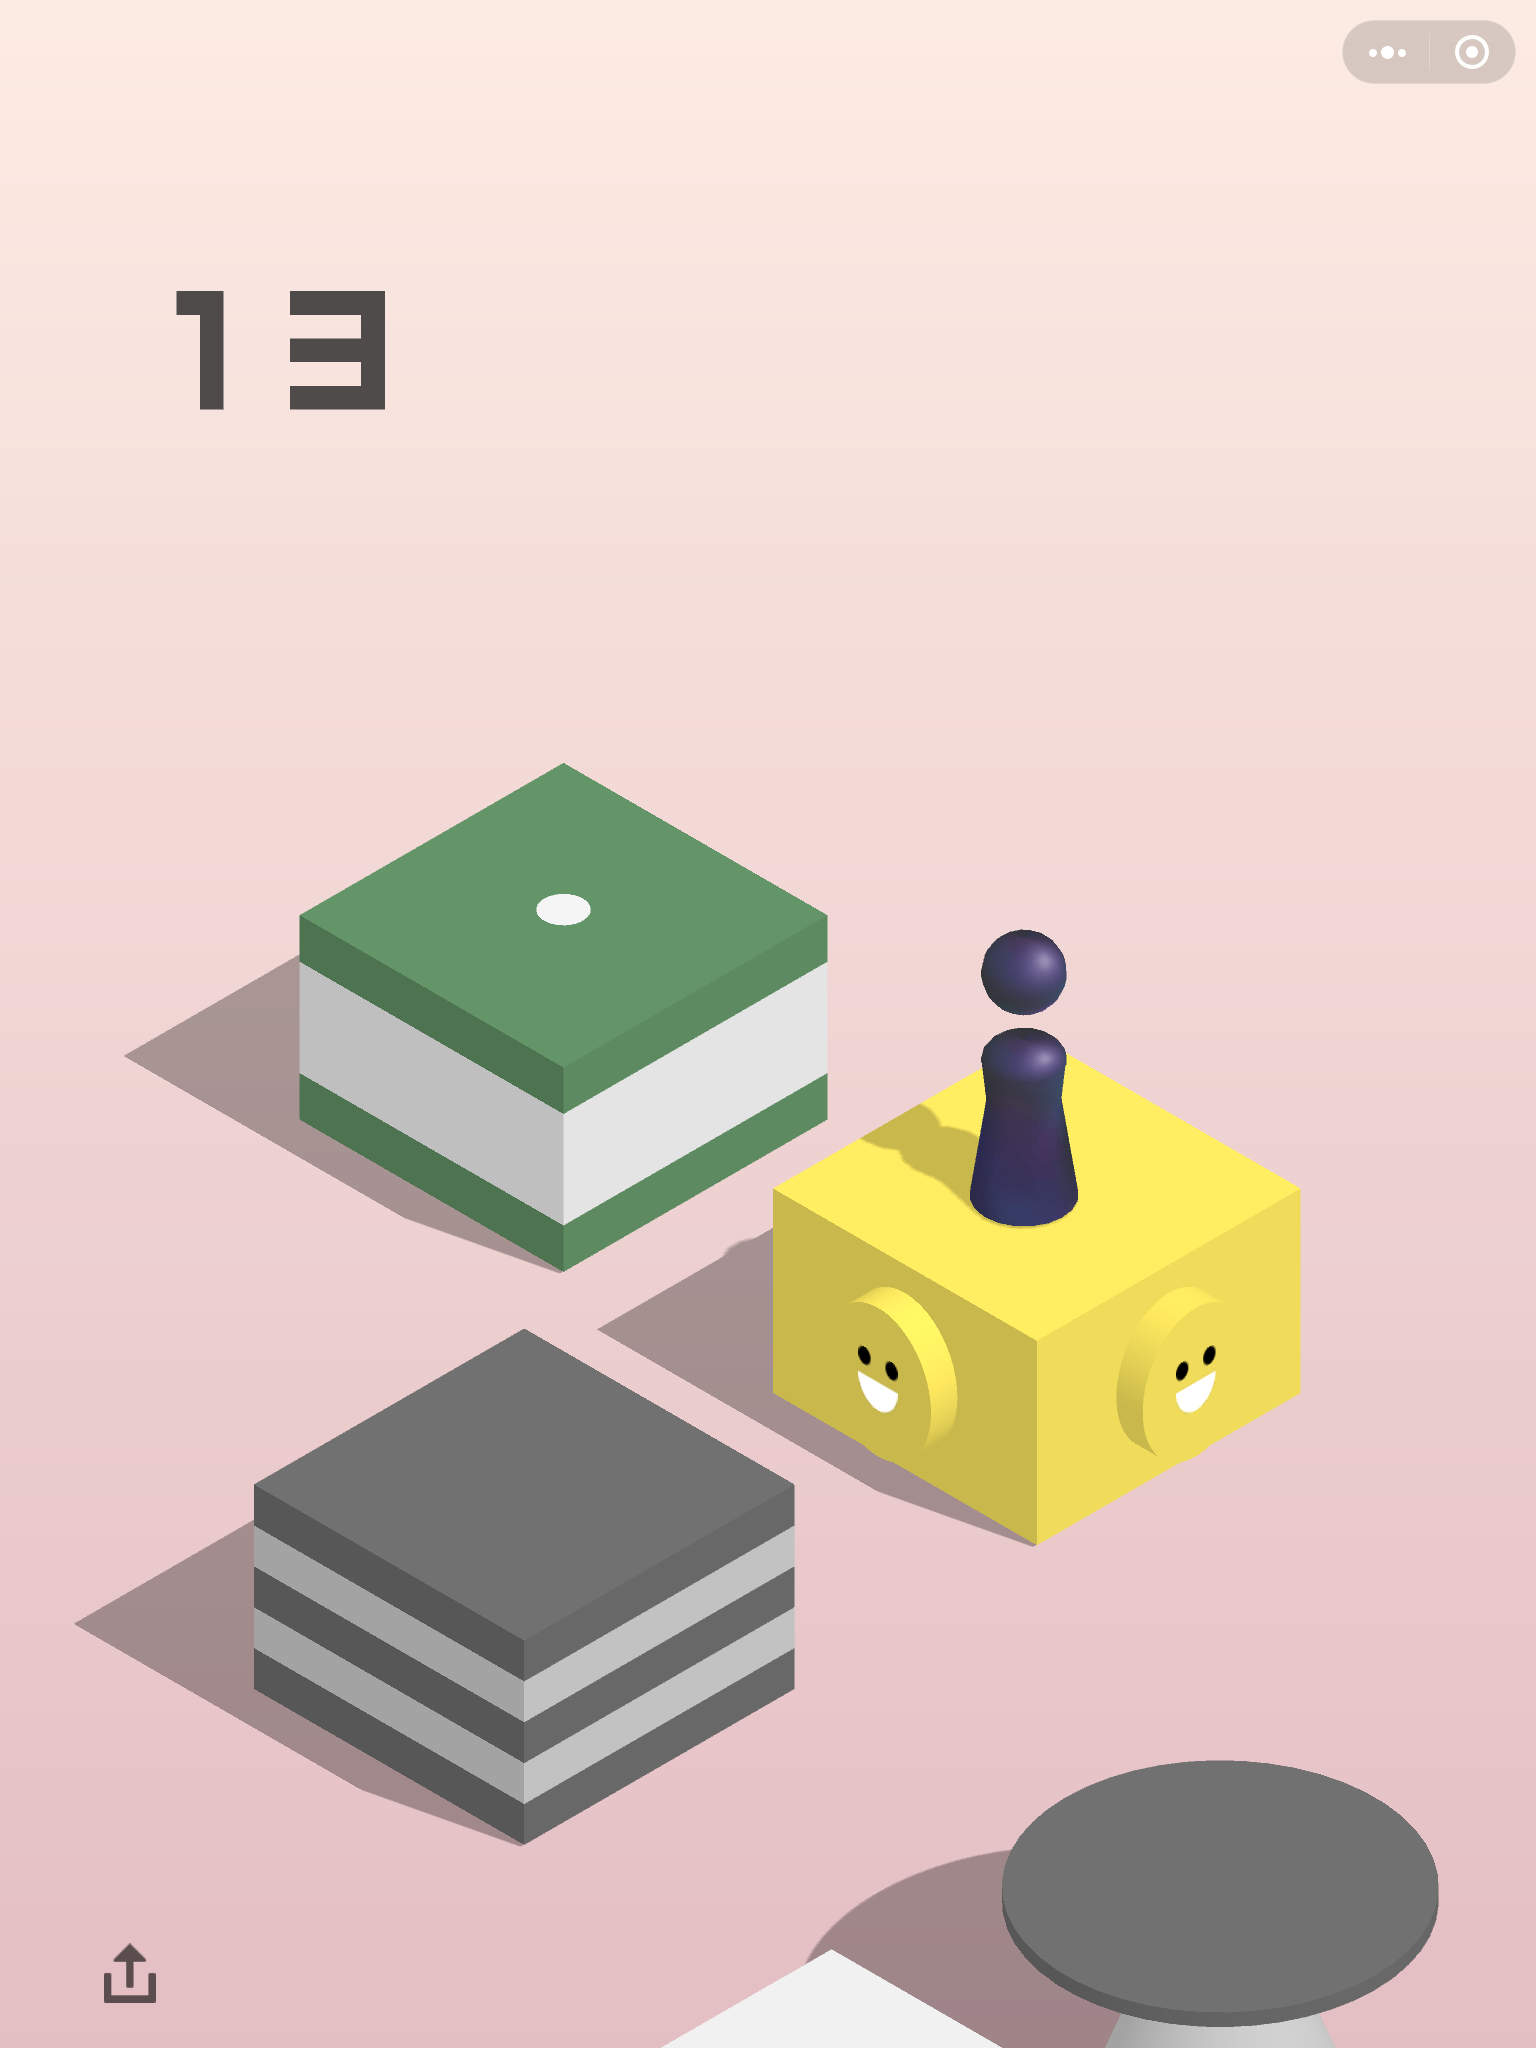c: (995, 1751, 1447, 2048)
f: (248, 1324, 803, 1846), (290, 758, 834, 1276), (765, 1039, 1310, 1548)
r: (965, 924, 1084, 1234)
